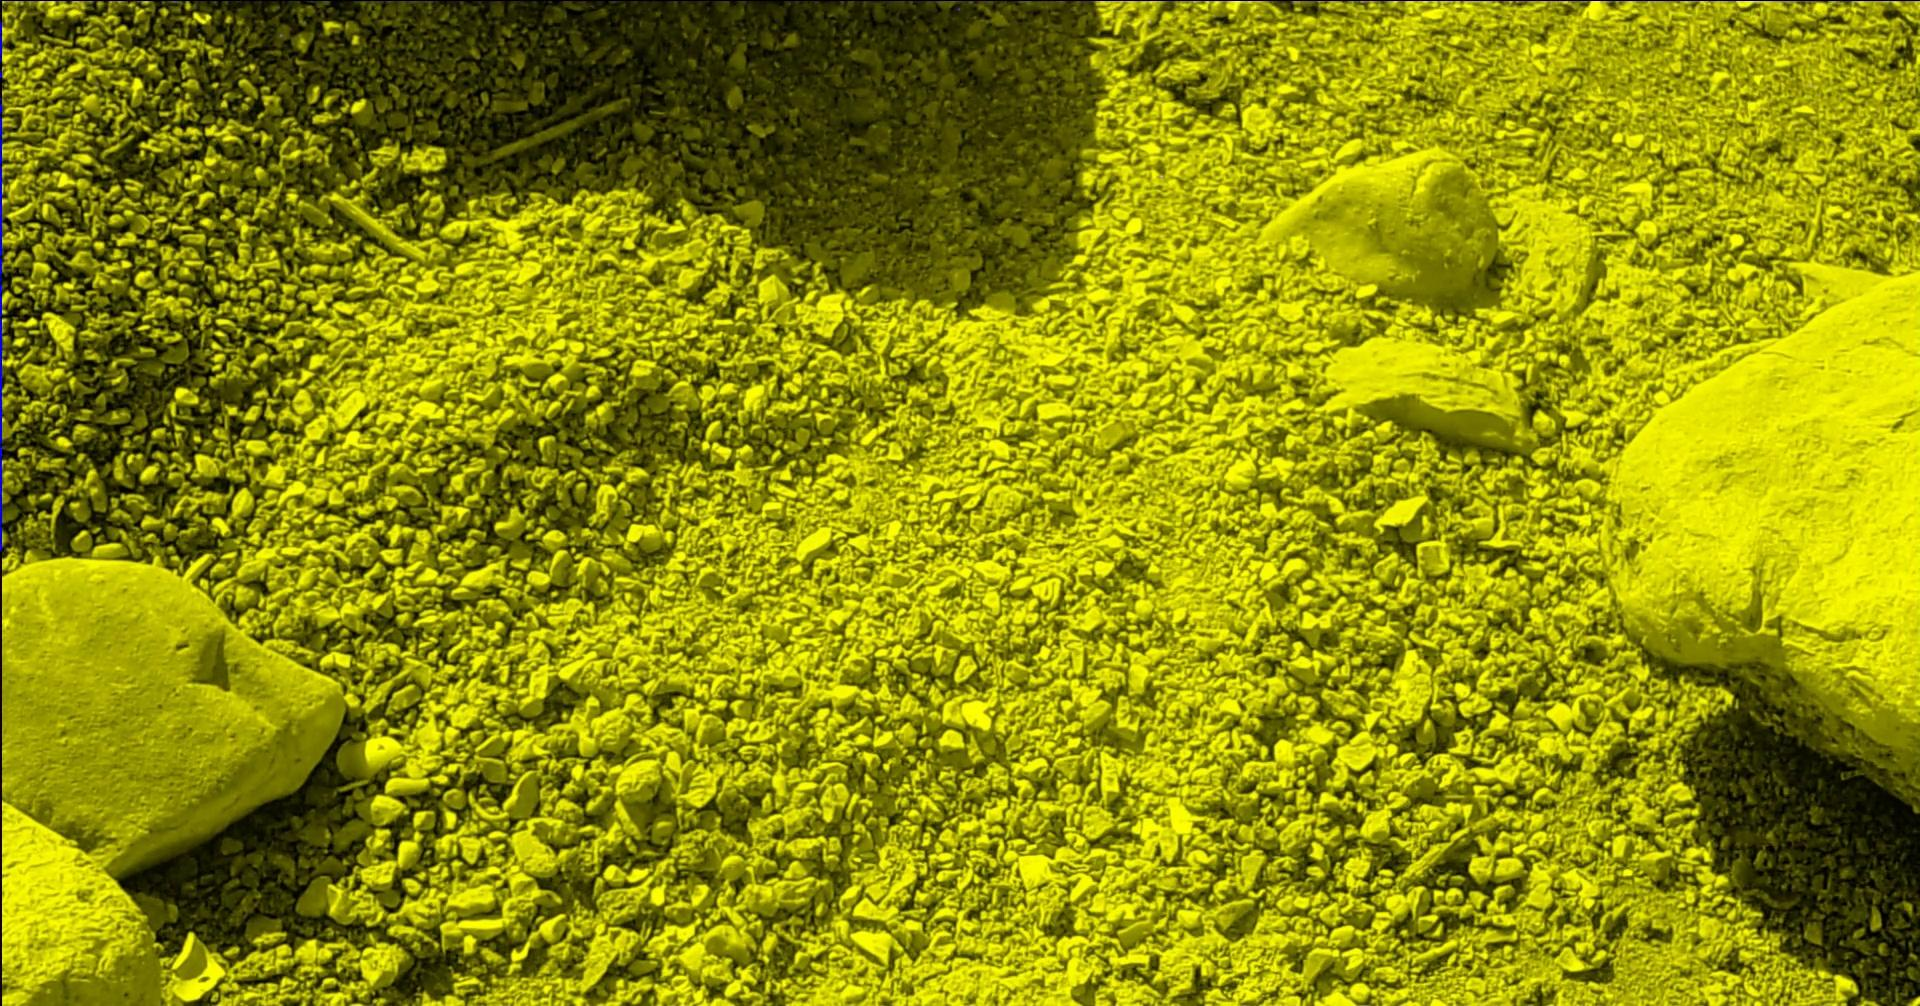ant: (0, 97, 3, 551)
